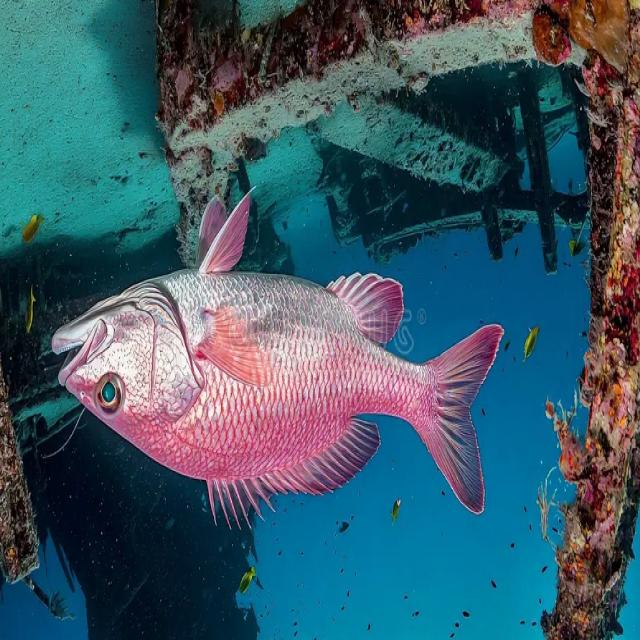Red Snapper: (52, 191, 503, 529)
